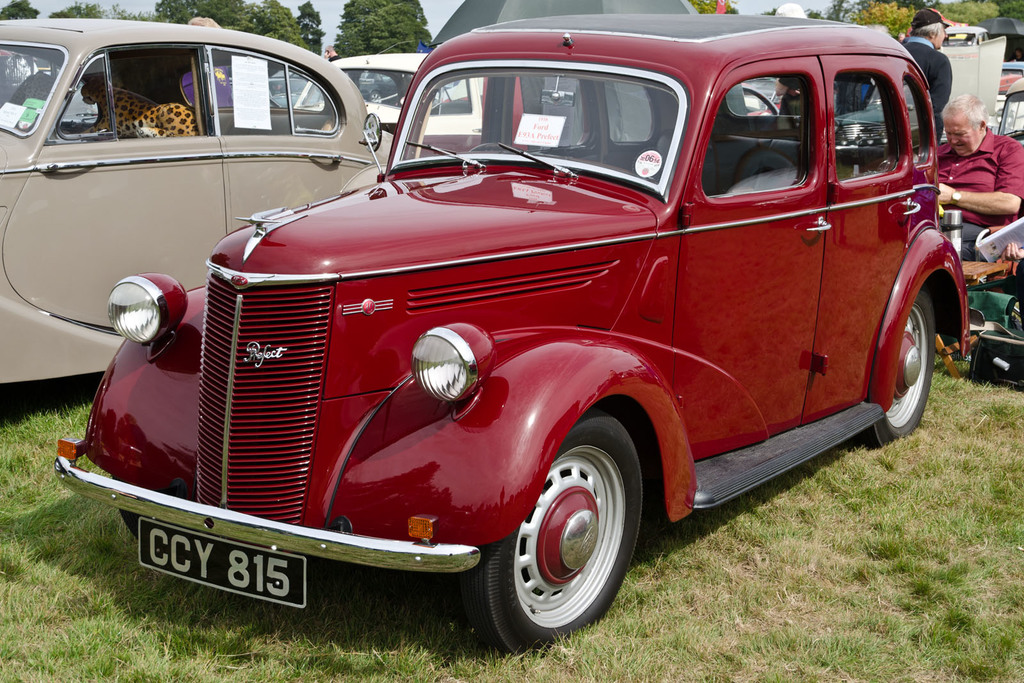car: (49, 11, 987, 679), (1, 12, 379, 411)
